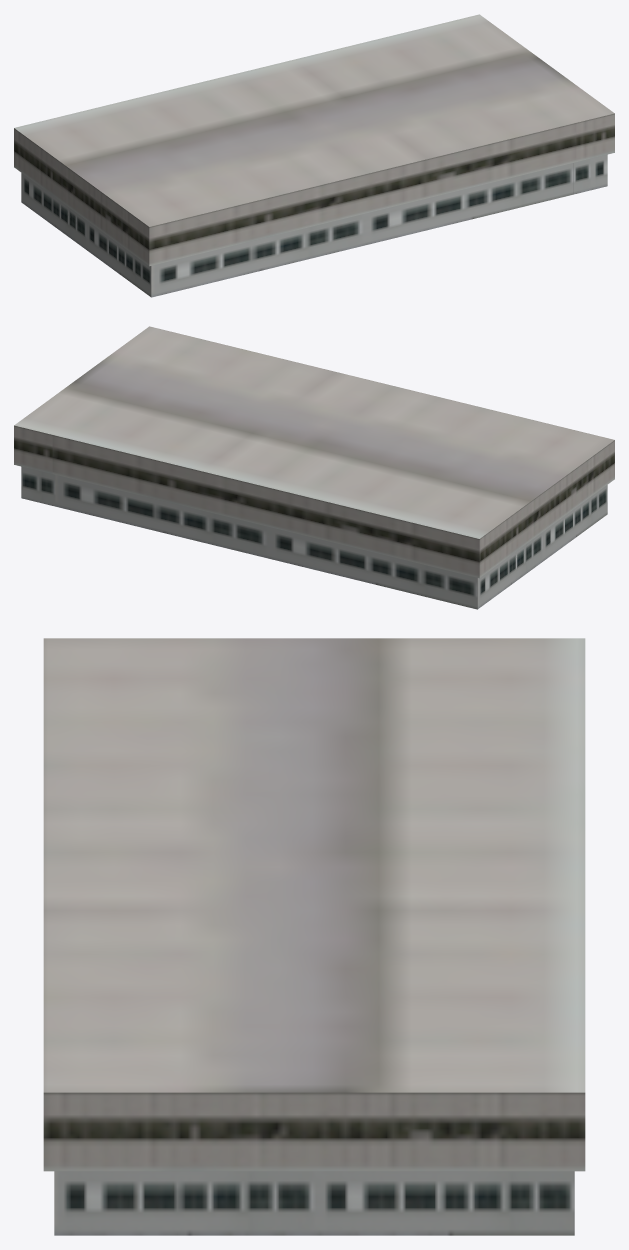
The model's file is generic-terminal.glb.
3 renders of one model, top to bottom at view 1: azimuth 30°, elevation 25°; view 2: azimuth 150°, elevation 25°; view 3: azimuth 270°, elevation 25°, orthographic. The views are drawn at different scales.
Parts seen in each view (by area): view 1: jour; view 2: jour; view 3: jour.
Part boxes in pixels (<box>): jour: <box>14,14,614,297</box>; jour: <box>14,326,614,609</box>; jour: <box>43,638,585,1235</box>.
Size of the model in its own units: 49.61 by 7.5 by 25.
1 material, 1 textured.
